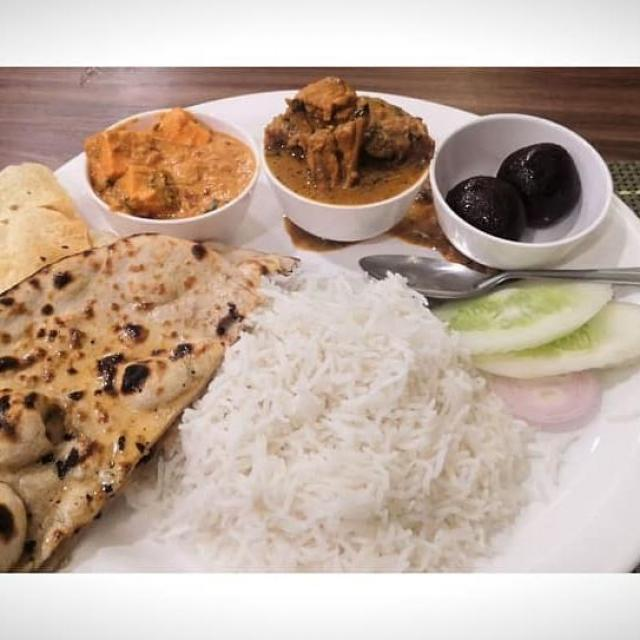Roti: (0, 157, 101, 289)
White Rice: (147, 280, 531, 570)
